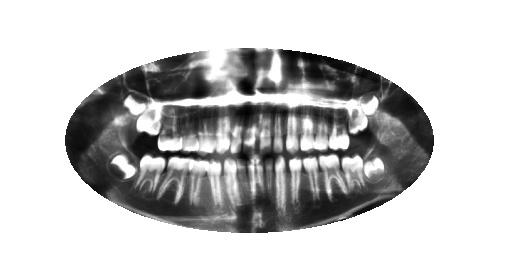i10chipped: (235, 157, 248, 198)
i11healthy: (222, 157, 238, 203)
i12healthy: (207, 158, 223, 206)
i13healthy: (187, 156, 207, 207)
i14healthy: (157, 156, 192, 204)
i15healthy: (134, 153, 166, 196)
i16healthy: (106, 151, 139, 183)
i1healthy: (363, 154, 386, 181)
i2healthy: (340, 154, 364, 192)
i3healthy: (317, 153, 347, 199)
i4healthy: (302, 154, 320, 203)
i5healthy: (287, 155, 303, 205)
i6healthy: (273, 155, 288, 211)
i7healthy: (263, 156, 275, 206)
i8healthy: (255, 156, 264, 197)
i9healthy: (247, 156, 254, 197)
u10healthy: (228, 108, 242, 154)
u11healthy: (215, 108, 231, 153)
u12healthy: (199, 108, 217, 153)
u13healthy: (179, 107, 200, 153)
u14healthy: (155, 106, 182, 151)
u15healthy: (134, 100, 161, 137)
u16healthy: (122, 86, 148, 117)
u1healthy: (358, 94, 381, 115)
u2healthy: (346, 107, 368, 134)
u3healthy: (327, 111, 350, 151)
u4healthy: (313, 110, 329, 150)
u5healthy: (299, 110, 315, 153)
u6healthy: (283, 109, 299, 153)
u7healthy: (272, 109, 284, 155)
u8decay: (260, 109, 273, 155)
u9decay: (243, 108, 259, 154)
